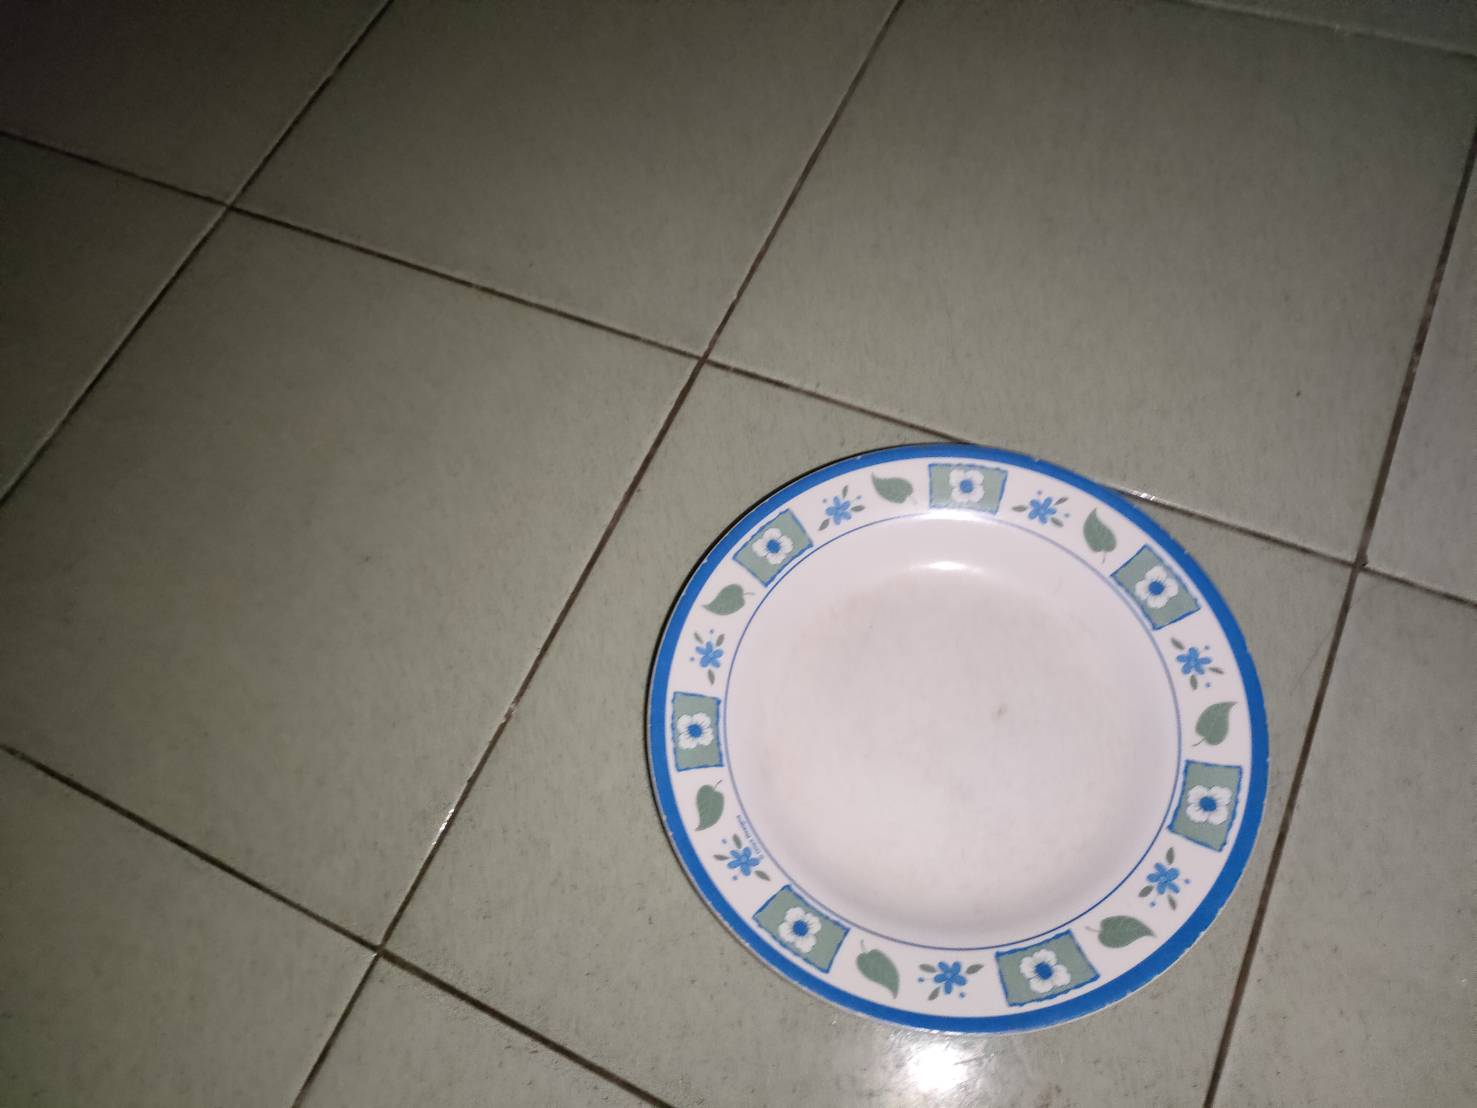piring: (644, 443, 1274, 1027)
